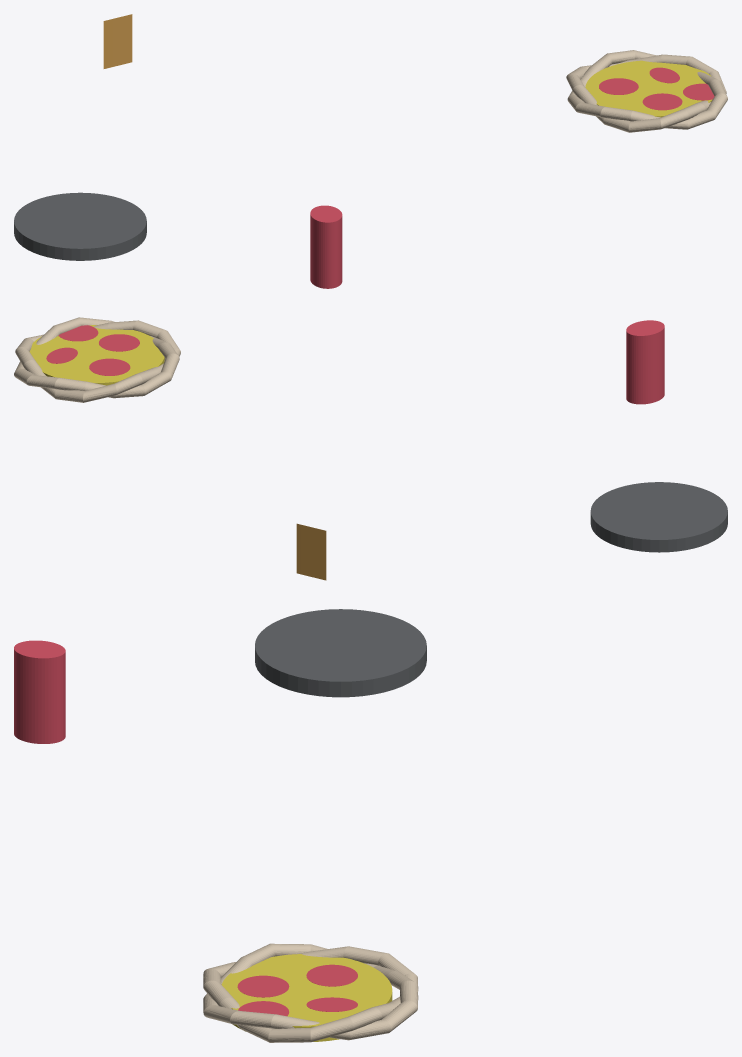
File: Chris - Pepperoni Pizza.glb
The picture shows the model from 3 angles, top to bottom: view 1: azimuth 30°, elevation 25°; view 2: azimuth 150°, elevation 25°; view 3: azimuth 270°, elevation 25°; orthographic projection. The views are drawn at different scales.
Visible parts, largest first — view 1: Mesh_Mesh_head_geo.001_lambert2SG.001; view 2: Mesh_Mesh_head_geo.001_lambert2SG.001; view 3: Mesh_Mesh_head_geo.001_lambert2SG.001.
Boxes of the visible parts, x1,y1,x2,y2 form: Mesh_Mesh_head_geo.001_lambert2SG.001: (14, 14, 727, 288); Mesh_Mesh_head_geo.001_lambert2SG.001: (14, 317, 727, 580); Mesh_Mesh_head_geo.001_lambert2SG.001: (14, 609, 426, 1042).
Size of the model in its own units: 0.119 by 0.012 by 0.083.
